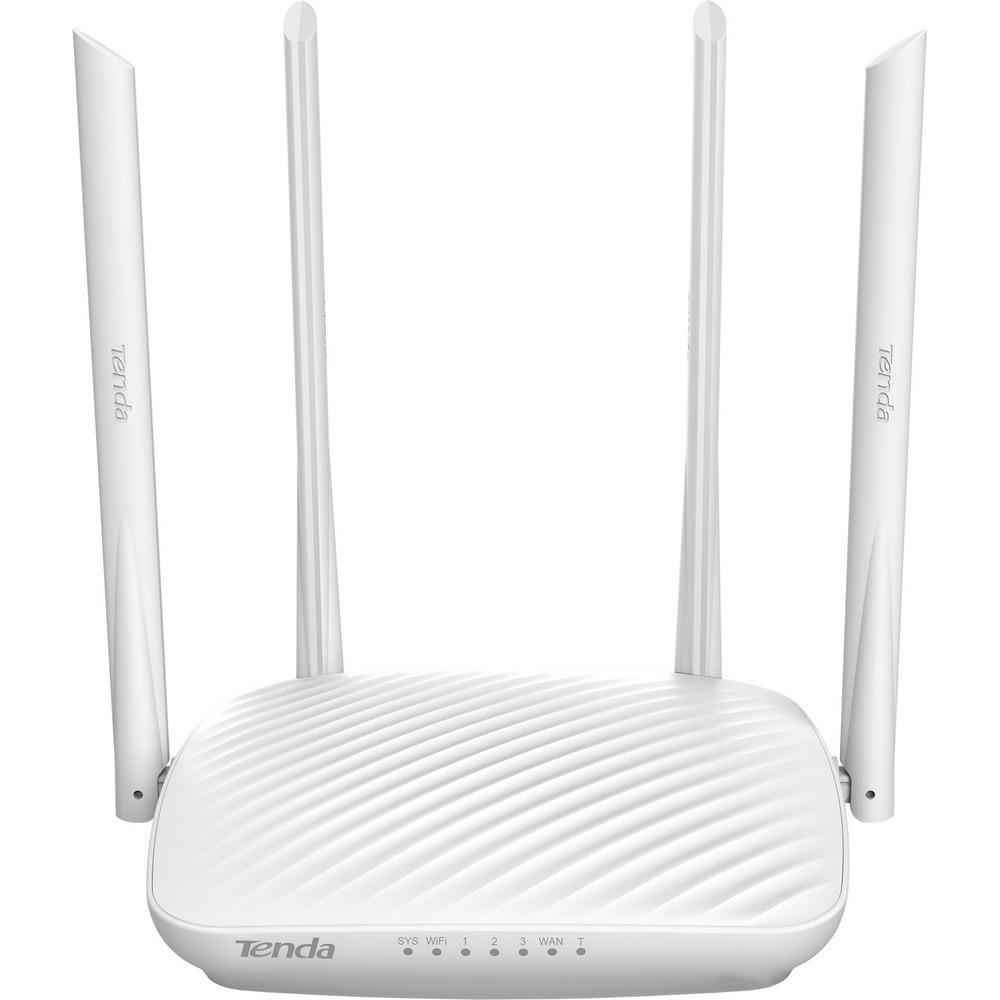router: (70, 0, 926, 1000)
